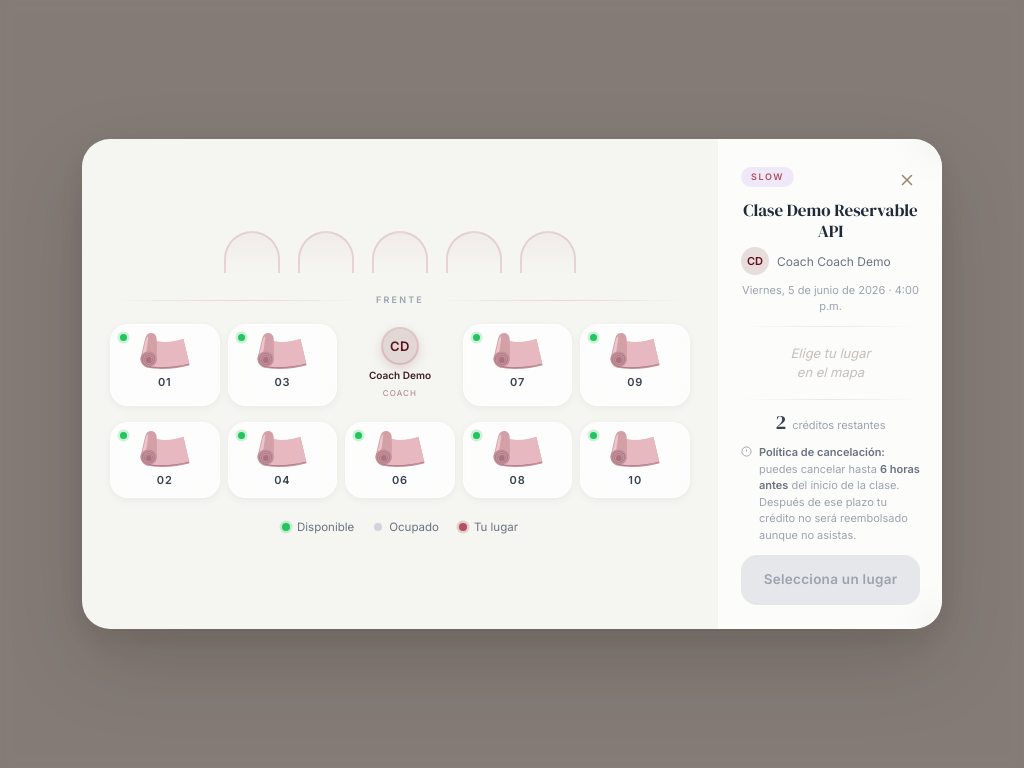
it: EquipmentReservationPanel › si backend responde INSUFFICIENT_CREDITS muestra mensaje claro
This screenshot has width=1024, height=768.
Click the button with test id "slow-spot-01".
click(165, 365)  # box top-left (110, 324), bottom-right (220, 406)
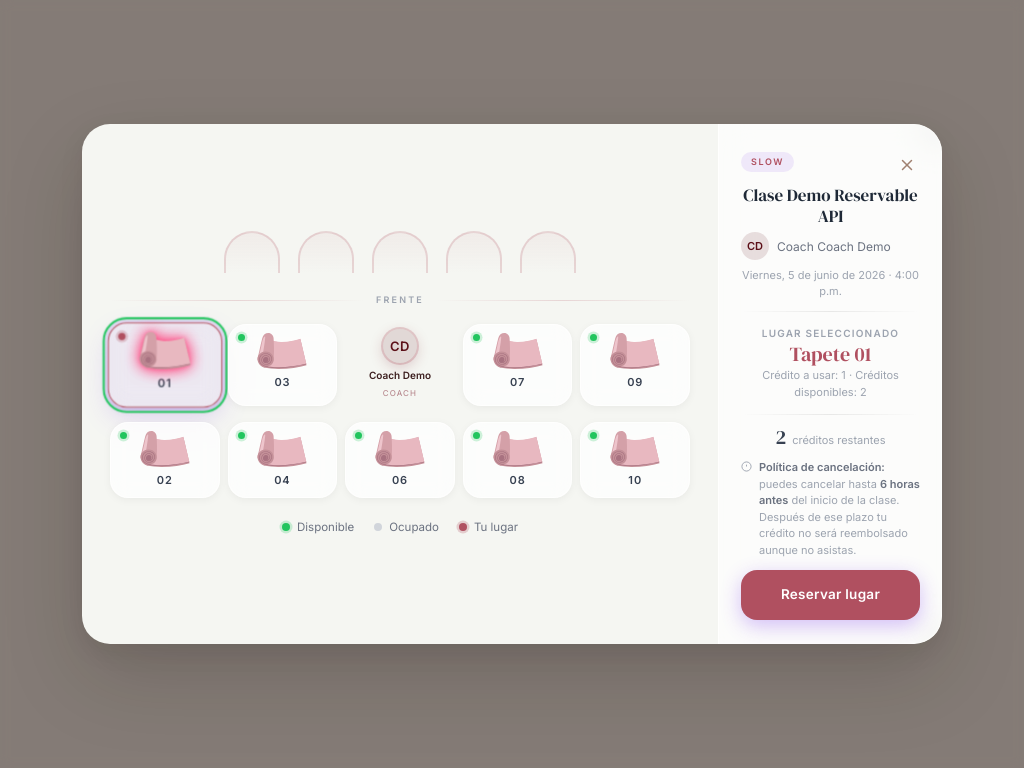
Click the button "Reservar lugar".
click(830, 595)  # box top-left (741, 570), bottom-right (920, 620)
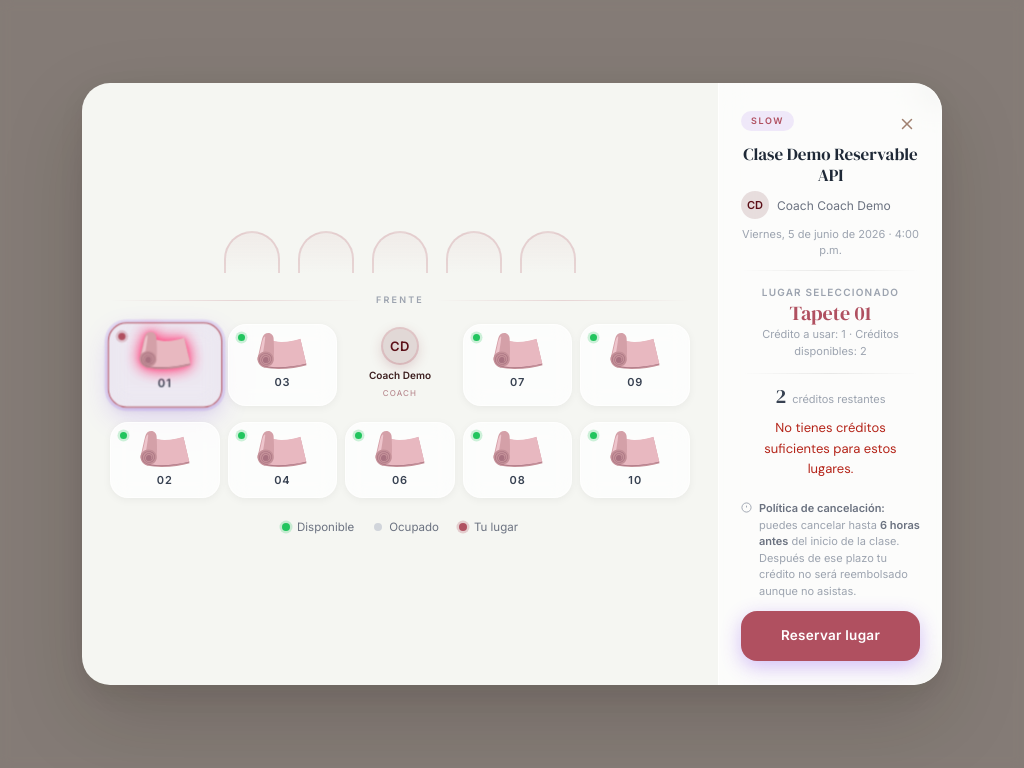
Check: the dialog named "Seleccionar lugar" shows "cr.ditos suficientes para estos lugares", box top-left (764, 419), bottom-right (897, 478)
